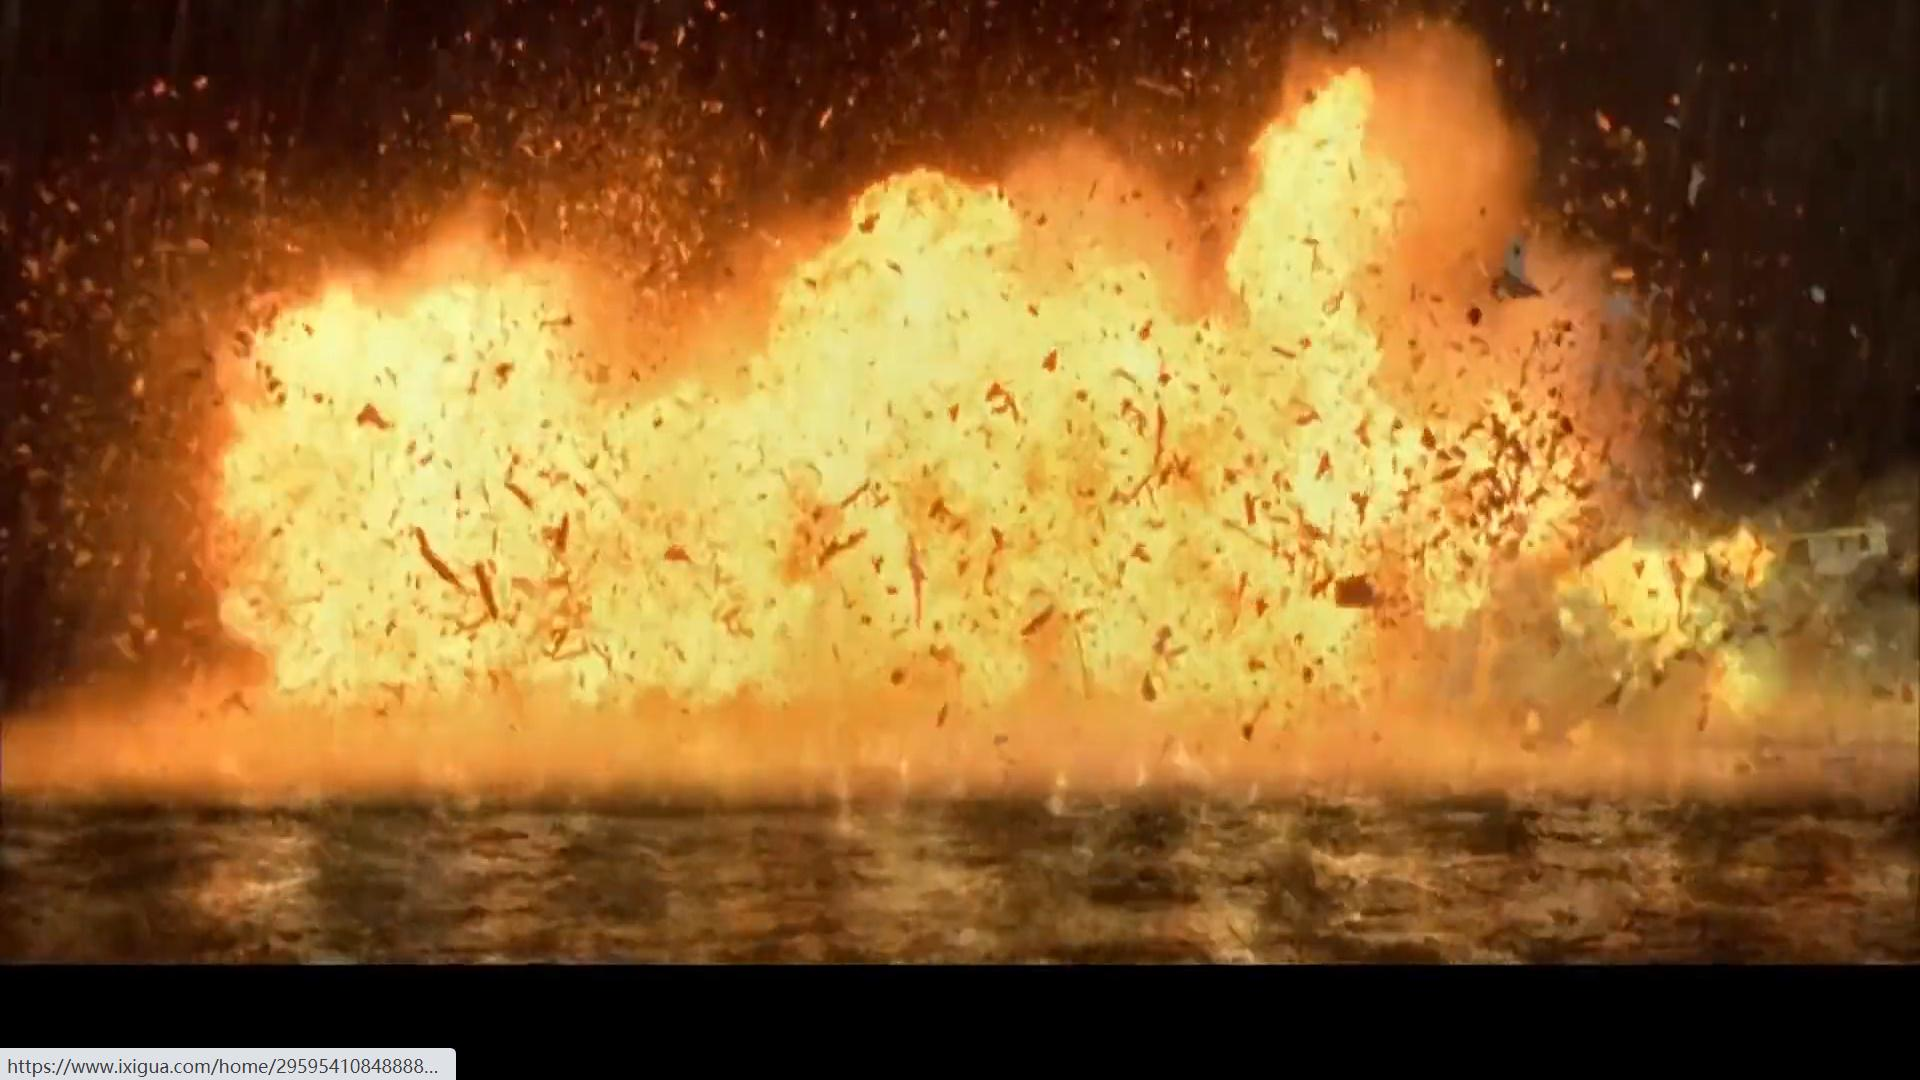fire: (177, 46, 1789, 844)
